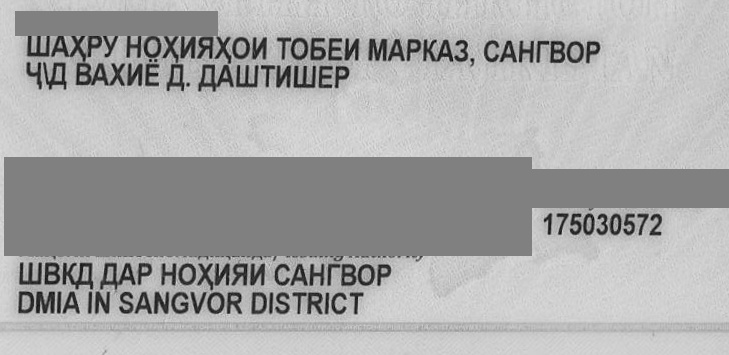0: (580, 210, 600, 238), (606, 210, 626, 238)
1: (541, 210, 557, 238)
2: (647, 210, 667, 238)
3: (595, 210, 613, 238)
5: (566, 210, 586, 238), (621, 210, 639, 238)
7: (553, 210, 573, 238), (634, 210, 654, 238)
Ё: (144, 52, 164, 96)
А: (501, 34, 525, 72), (92, 51, 112, 95), (49, 29, 71, 67), (435, 33, 455, 71), (117, 253, 135, 293), (289, 252, 307, 292), (220, 53, 236, 97), (389, 33, 407, 71)
Б: (307, 32, 327, 70)
В: (70, 50, 94, 94), (39, 253, 61, 293), (551, 34, 573, 72), (337, 252, 355, 292)
Г: (538, 34, 556, 72), (326, 252, 342, 292)
Д: (50, 50, 82, 94), (195, 52, 219, 96), (76, 253, 100, 293), (165, 52, 185, 96), (100, 253, 118, 293)
Е: (313, 55, 333, 99), (326, 32, 346, 70)
З: (455, 33, 473, 71)
И: (214, 253, 238, 293), (163, 30, 187, 68), (343, 32, 367, 70), (124, 51, 144, 95), (251, 253, 273, 293), (253, 31, 275, 69), (275, 54, 291, 98)
К: (59, 253, 77, 293), (419, 33, 437, 71)
М: (370, 32, 388, 70)
Н: (161, 253, 183, 293), (520, 34, 542, 72), (305, 252, 325, 292), (126, 30, 130, 68)
О: (211, 31, 261, 69), (177, 253, 203, 293), (568, 35, 592, 73), (127, 30, 149, 68), (356, 252, 376, 292), (292, 31, 308, 69)
Р: (133, 253, 159, 293), (374, 252, 396, 292), (587, 35, 607, 73), (333, 55, 349, 99), (83, 29, 101, 67), (404, 33, 420, 71)
С: (485, 34, 507, 72), (274, 252, 290, 292)
Т: (257, 54, 277, 98), (279, 31, 295, 69)
У: (102, 29, 126, 67)
Х: (112, 51, 128, 95)
Ч: (27, 50, 43, 94)
Ш: (231, 53, 253, 97), (290, 54, 312, 98), (20, 254, 40, 294), (28, 29, 48, 67)
Я: (231, 253, 255, 293), (180, 30, 204, 68)
Ҳ: (143, 30, 169, 68), (197, 253, 221, 293), (197, 30, 221, 68), (72, 29, 88, 67)
